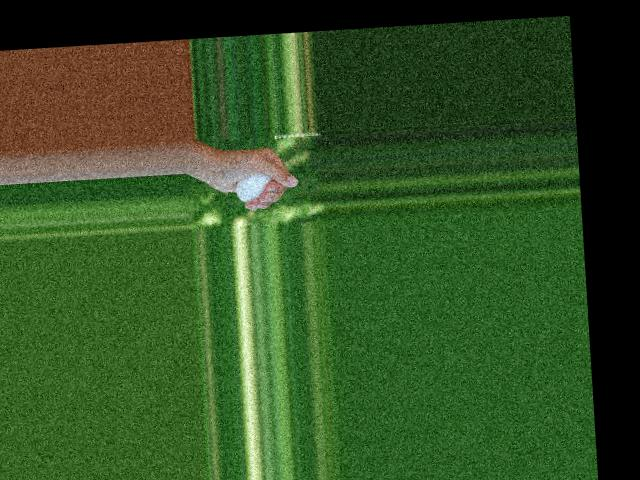egg: (235, 174, 274, 202)
